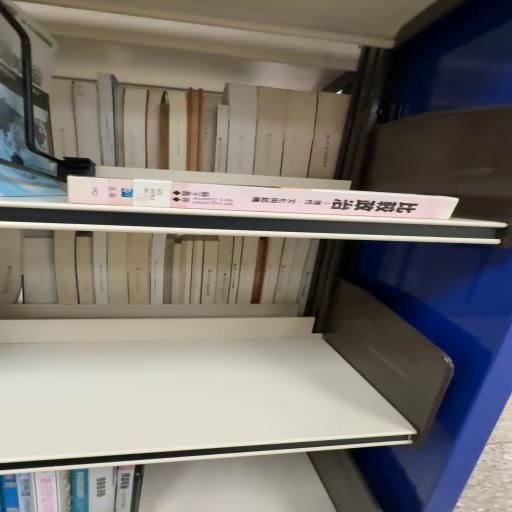flat: (68, 177, 459, 220)
